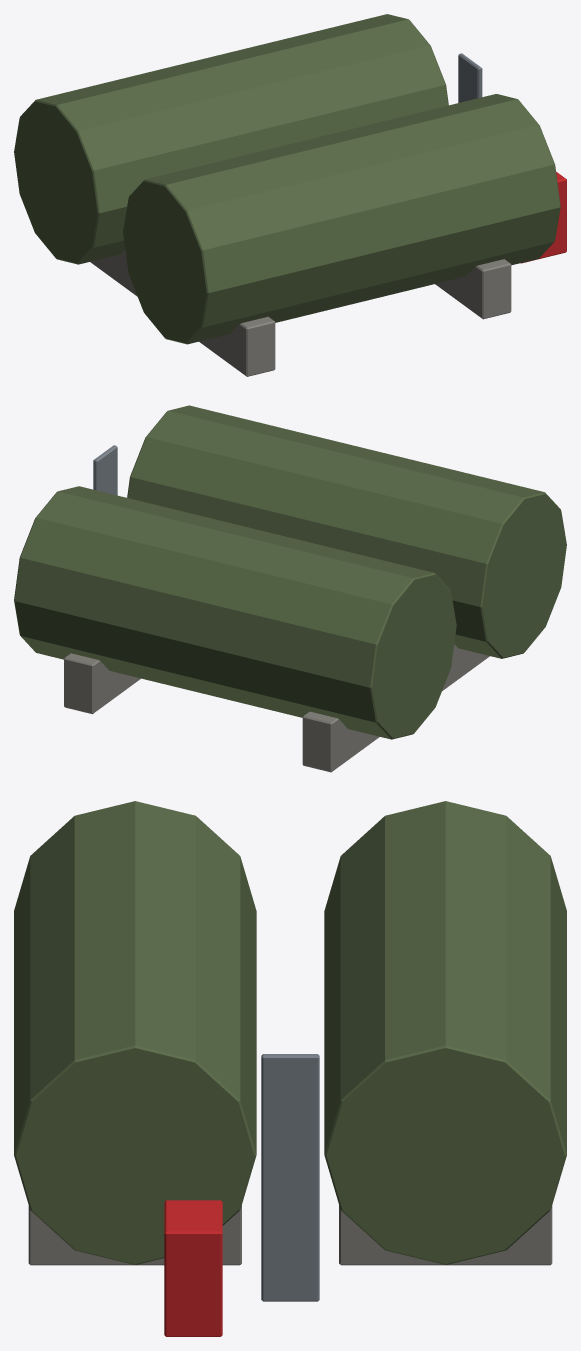
The model's file is drivmedel.glb.
The picture shows the model from 3 angles, top to bottom: view 1: azimuth 30°, elevation 25°; view 2: azimuth 150°, elevation 25°; view 3: azimuth 270°, elevation 25°; orthographic projection. The views are drawn at different scales.
Parts seen in each view (by area): view 1: drivmedel; view 2: drivmedel; view 3: drivmedel.
Part boxes in pixels (box(x1,y1,x2,y2)): drivmedel: box(14, 14, 566, 376); drivmedel: box(14, 405, 566, 772); drivmedel: box(14, 801, 566, 1336).
Bounding box in the file's own units: 7 × 2.85 × 5.7.
